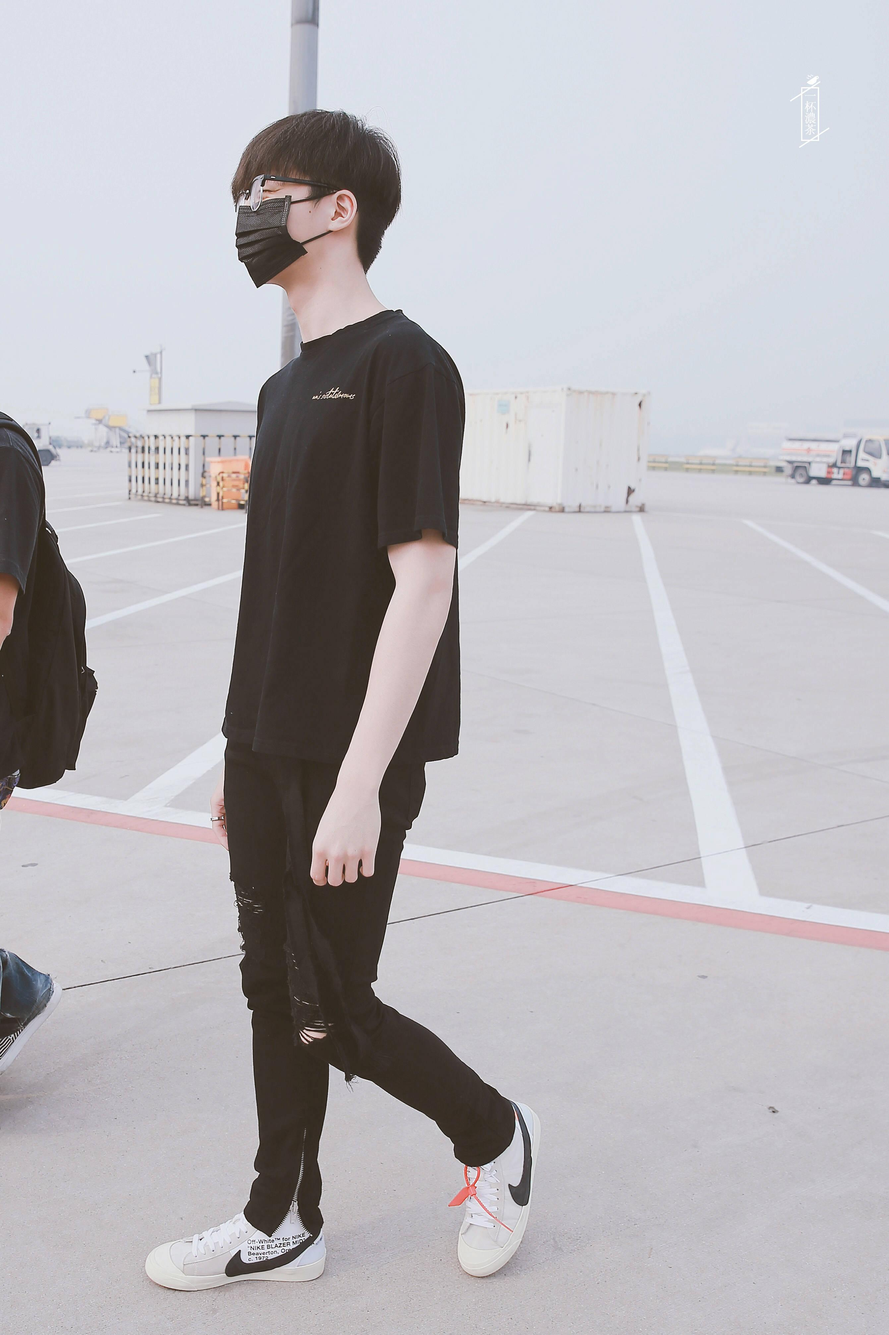OK: (235, 169, 313, 288)
